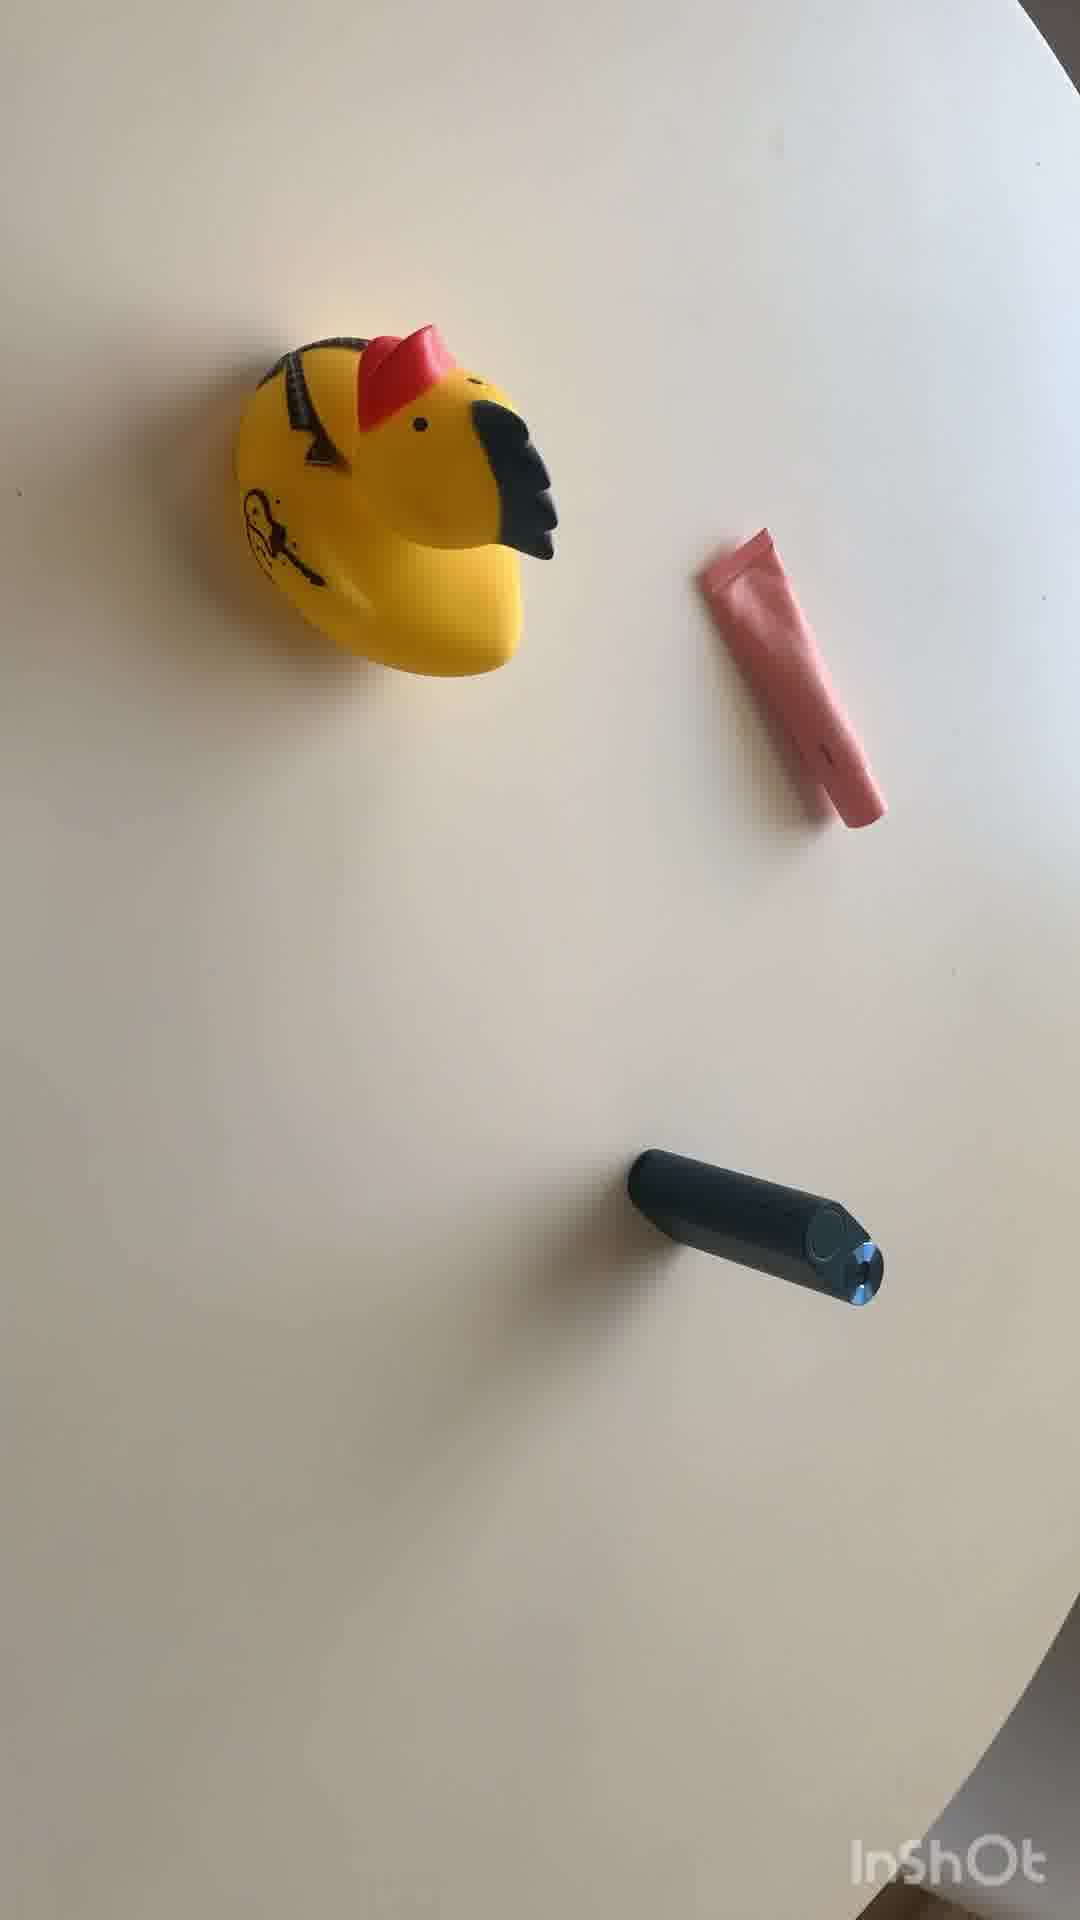duck: (223, 323, 554, 687)
glo: (626, 1159, 887, 1305)
lip balm: (690, 526, 890, 836)
